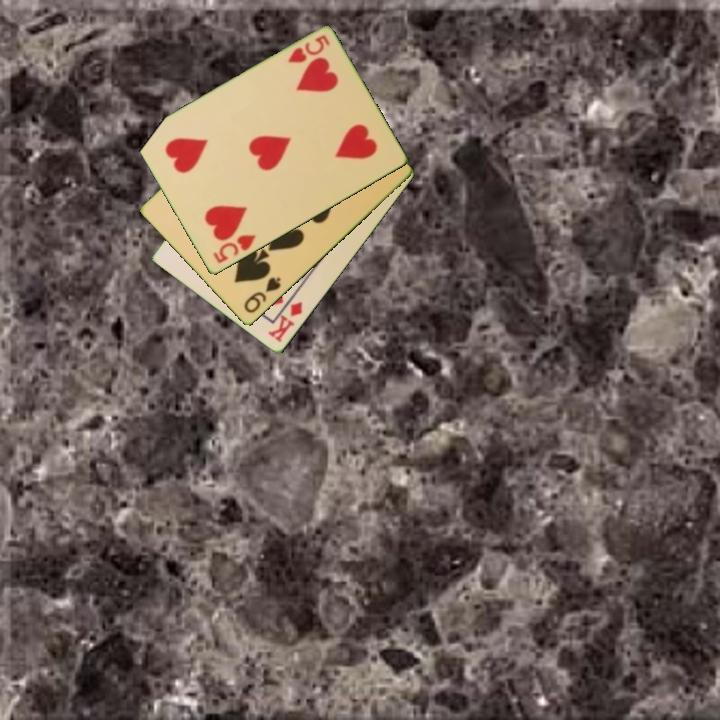5h: (209, 231, 259, 267), (284, 32, 333, 67)
9s: (240, 274, 284, 317)
Kd: (264, 298, 306, 346)
